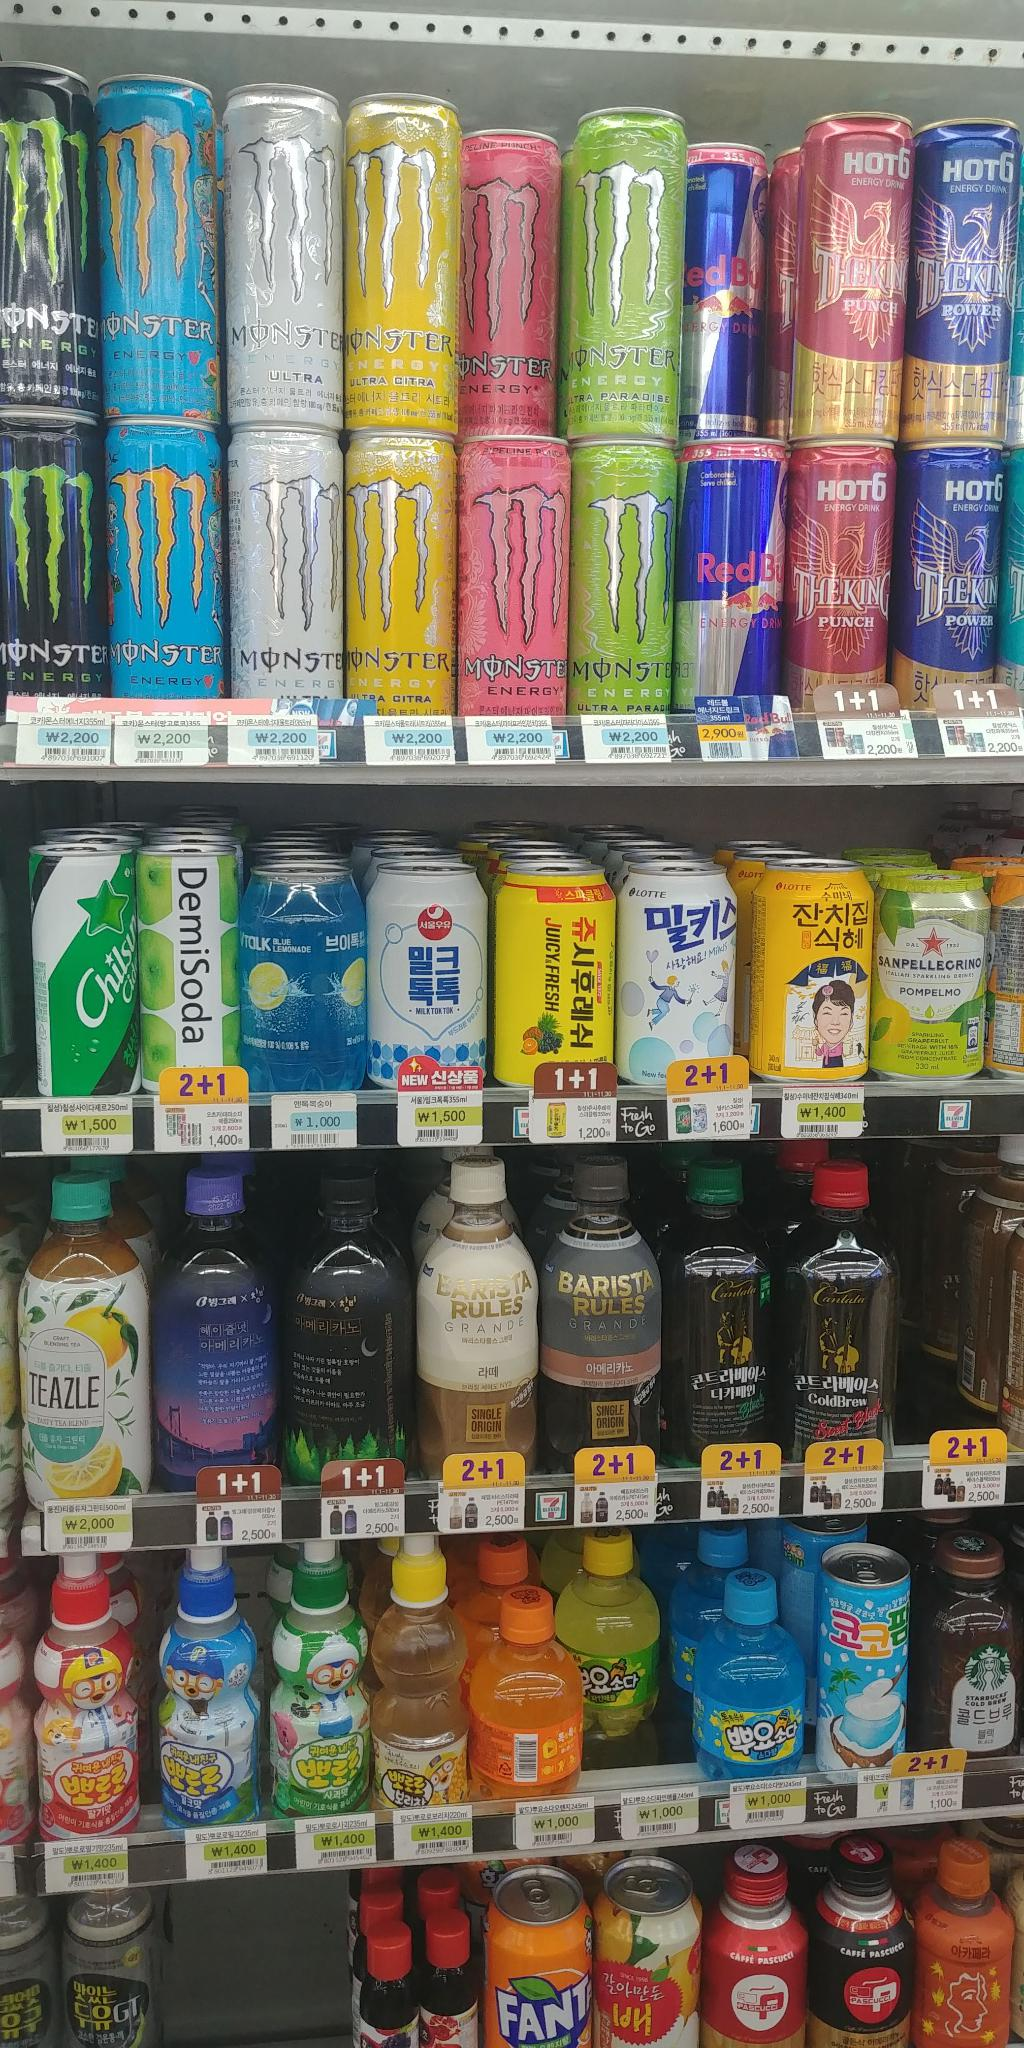chilsungcider_zero: (24, 832, 153, 1097)
contrabass_sweetblack: (784, 1157, 910, 1479)
fanta_orange: (478, 1869, 596, 2048)
